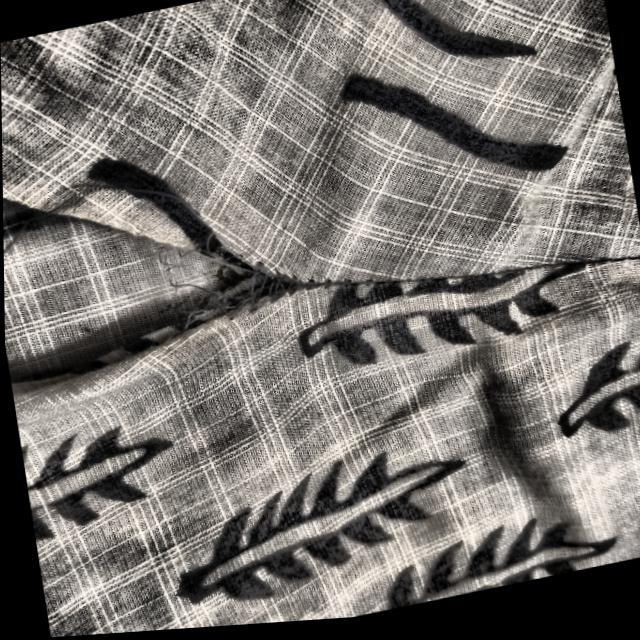Stitch: (2, 131, 345, 405)
